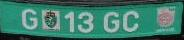1: (65, 11, 75, 34)
3: (77, 11, 95, 34)
C: (123, 10, 139, 32)
G: (102, 11, 120, 34), (21, 8, 38, 31)
